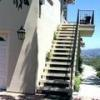stairs: (34, 23, 81, 98)
